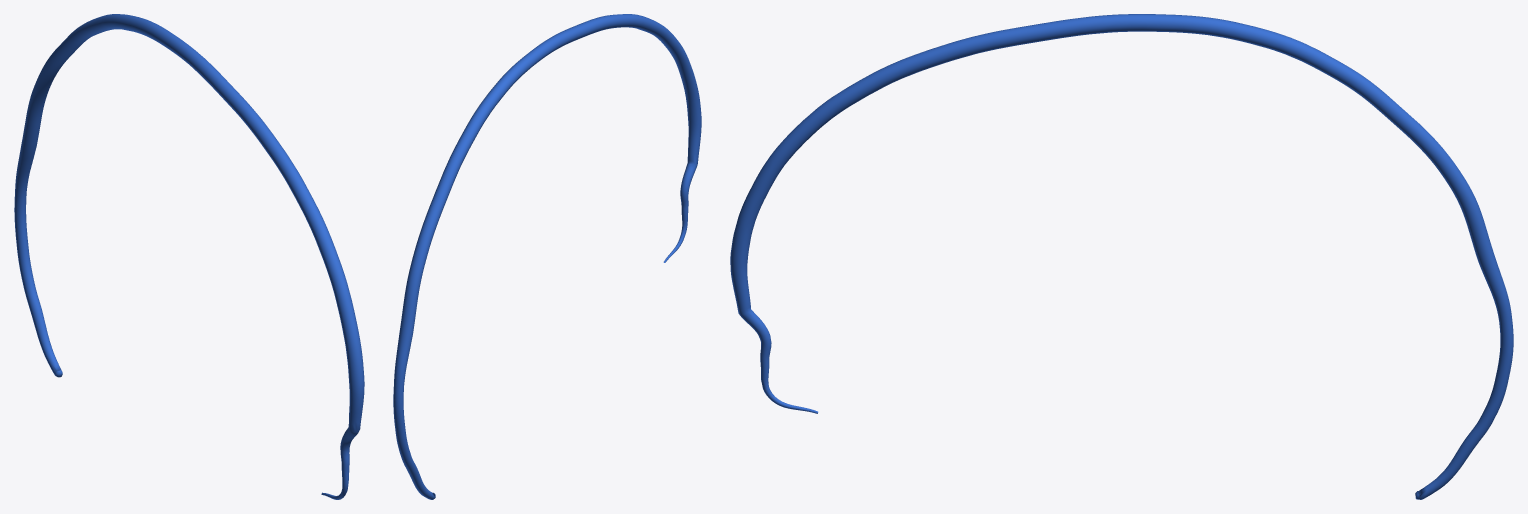
The model's file is circulatorio-superior-sagittal-sinus.glb.
3 views of the same model, side by side, from view 1: azimuth 30°, elevation 25°; view 2: azimuth 150°, elevation 25°; view 3: azimuth 270°, elevation 25° (orthographic). The views are drawn at different scales.
Parts seen in each view (by area): view 1: Superior sagittal sinus; view 2: Superior sagittal sinus; view 3: Superior sagittal sinus.
Part boxes in pixels (x1,y1,x2,y2): Superior sagittal sinus: [14, 14, 364, 499]; Superior sagittal sinus: [393, 14, 701, 499]; Superior sagittal sinus: [730, 14, 1513, 499].
Size of the model in its own units: 0.004 by 0.121 by 0.1772.
